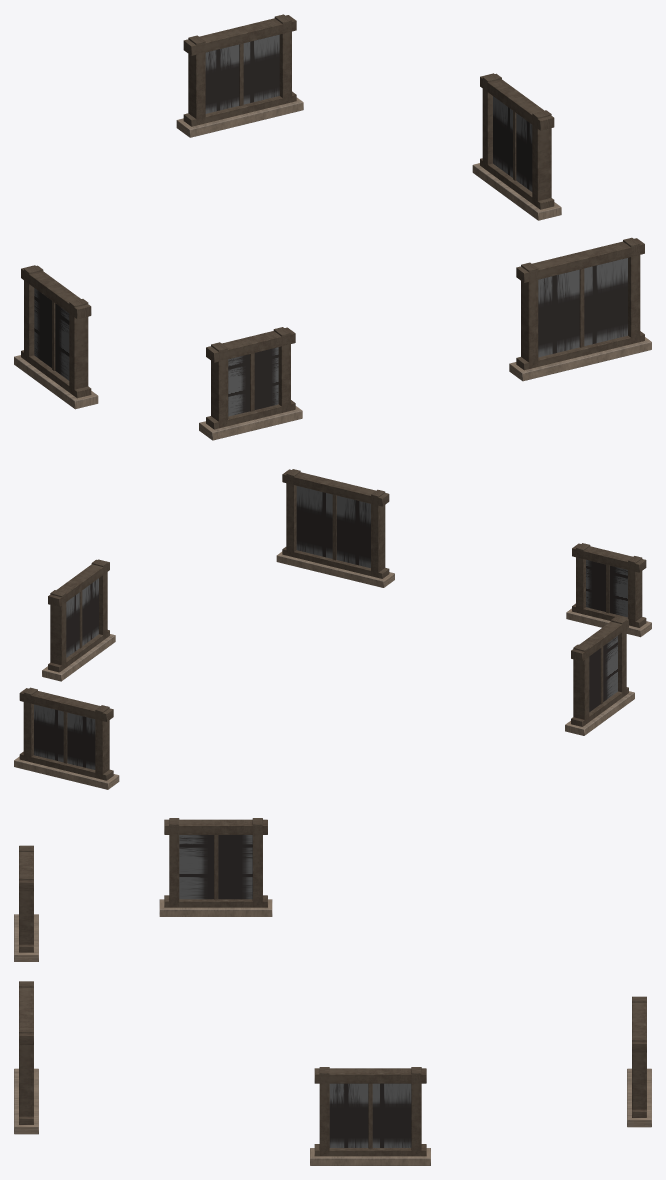
The model's file is BW_FamilyCottageB01_Windows.fbx.
3 renders of one model, top to bottom at view 1: azimuth 30°, elevation 25°; view 2: azimuth 150°, elevation 25°; view 3: azimuth 270°, elevation 25°, orthographic. The views are drawn at different scales.
Visible parts, largest first — view 1: BW_FamilyCottageB01_Windows; view 2: BW_FamilyCottageB01_Windows; view 3: BW_FamilyCottageB01_Windows.
Boxes of the visible parts, x1=… form: BW_FamilyCottageB01_Windows: x1=14, y1=14, x2=651, y2=440; BW_FamilyCottageB01_Windows: x1=14, y1=469, x2=651, y2=789; BW_FamilyCottageB01_Windows: x1=14, y1=818, x2=651, y2=1165.
Size of the model in its own units: 7.24 by 1.3 by 7.64.
